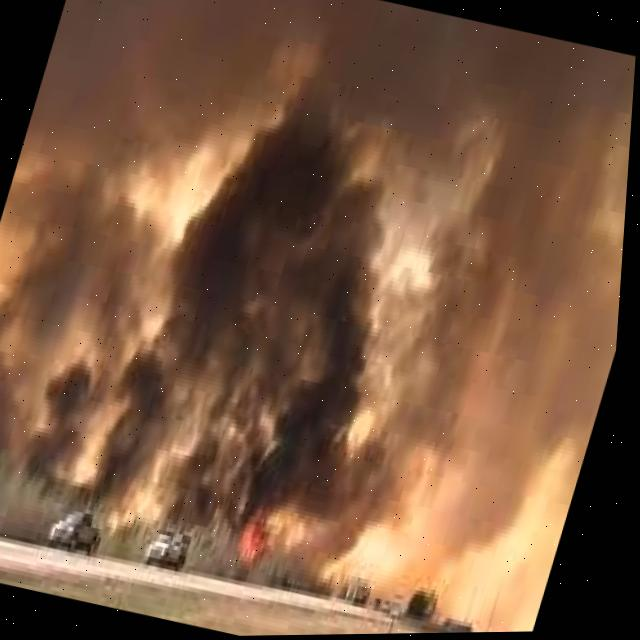smoke: (0, 0, 637, 634)
